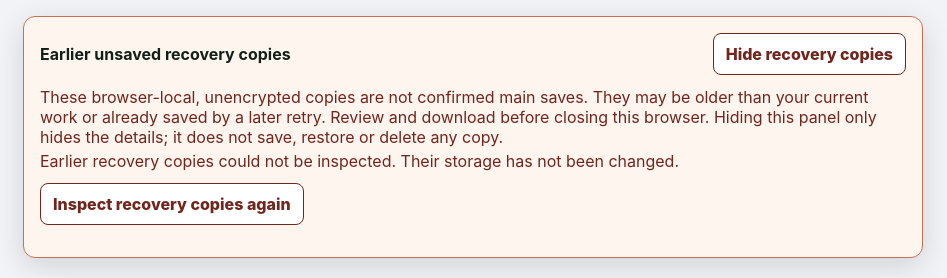
Test: does not describe inaccessible recovery storage as an empty inventory when hidden
This screenshot has width=947, height=278.
Click the button "Hide recovery copies" at (809, 54), box [713,33,906,75]
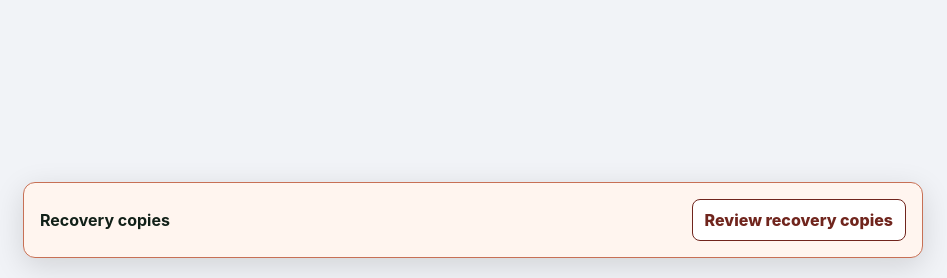
Expected: the heading "Recovery copies" is shown, [40,210,170,230]
Click the button "Review recovery copies" at (799, 220), box [692,199,906,241]
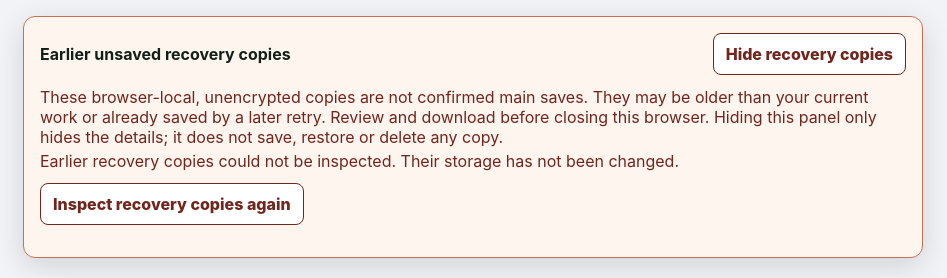
Expected: the text "could not be inspected" is shown, [40,151,679,171]
